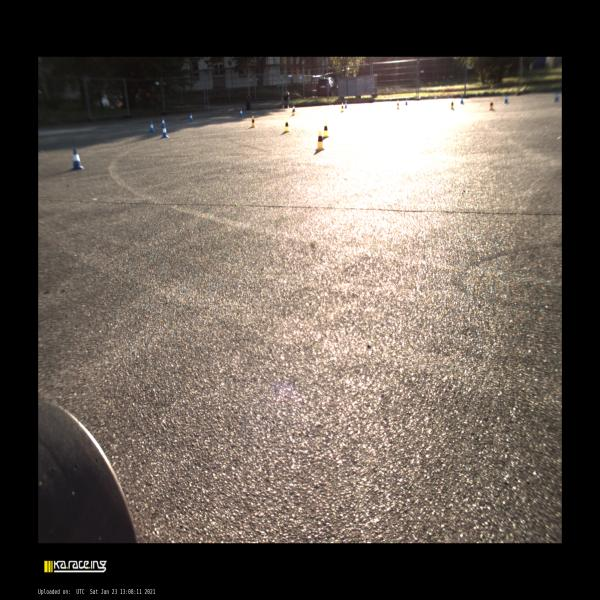blue_cone: (70, 148, 84, 170), (160, 123, 169, 139), (149, 120, 155, 133), (188, 113, 194, 122), (503, 95, 509, 104), (554, 92, 559, 102), (161, 118, 166, 127), (459, 96, 464, 104), (404, 98, 408, 106), (292, 104, 296, 112), (344, 100, 347, 109), (240, 109, 243, 116)
yellow_cone: (315, 130, 324, 151), (282, 118, 290, 133), (322, 122, 329, 138), (250, 116, 257, 128), (489, 100, 494, 110), (450, 100, 454, 110), (291, 107, 295, 116), (340, 103, 344, 112), (396, 100, 399, 109)
